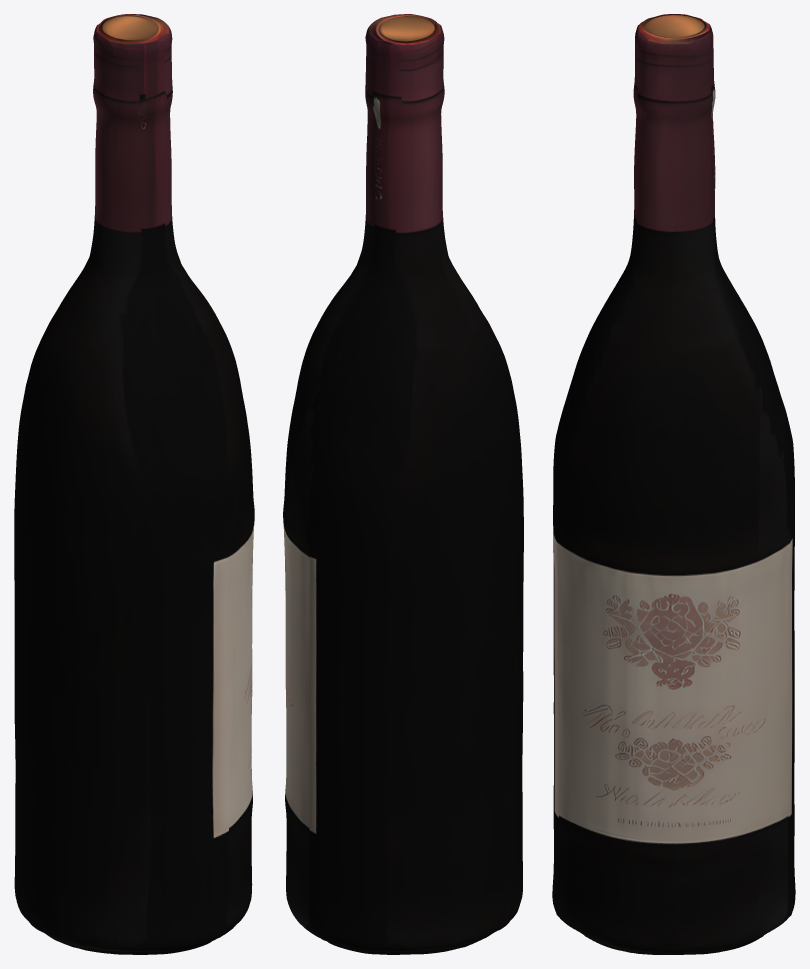
The model's file is modern_wine_bottle.glb.
3 views of the same model, side by side, from view 1: azimuth 30°, elevation 25°; view 2: azimuth 150°, elevation 25°; view 3: azimuth 270°, elevation 25° (orthographic).
Parts seen in each view (by area): view 1: model; view 2: model; view 3: model.
Part boxes in pixels (x1,y1,x2,y2): model: (14,14,254,954); model: (283,14,523,954); model: (552,14,795,954).
Bounding box in the file's own units: 0.2442 × 1 × 0.2484.
Materials: 1 (1 with a texture image).
